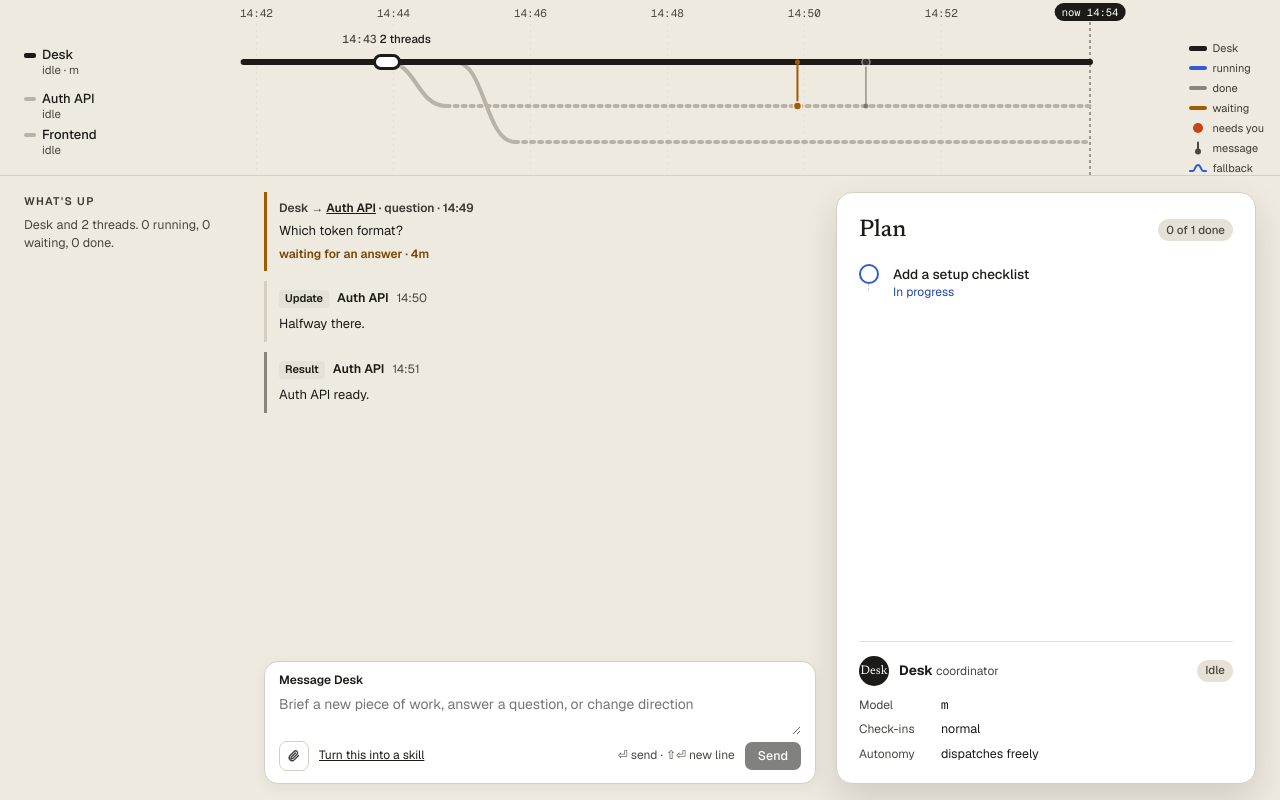
messages in the conversation › opens the pair sheet from the counterpart's name on Desk's message rows, and keeps a notice's link
Click the button "Auth API" next to "Desk →": [351, 209] box [326,200,376,217]
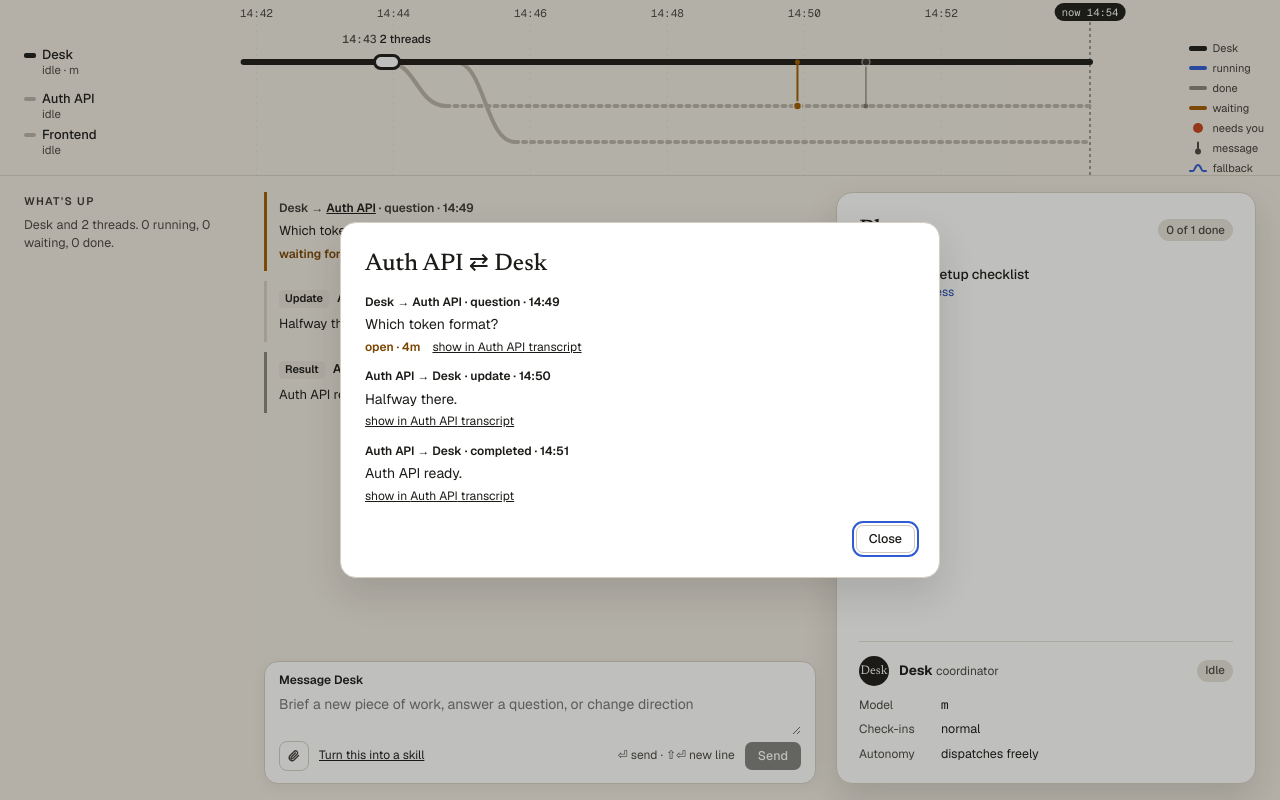
Click the button "Close": [885, 539] box [856,525,915,553]
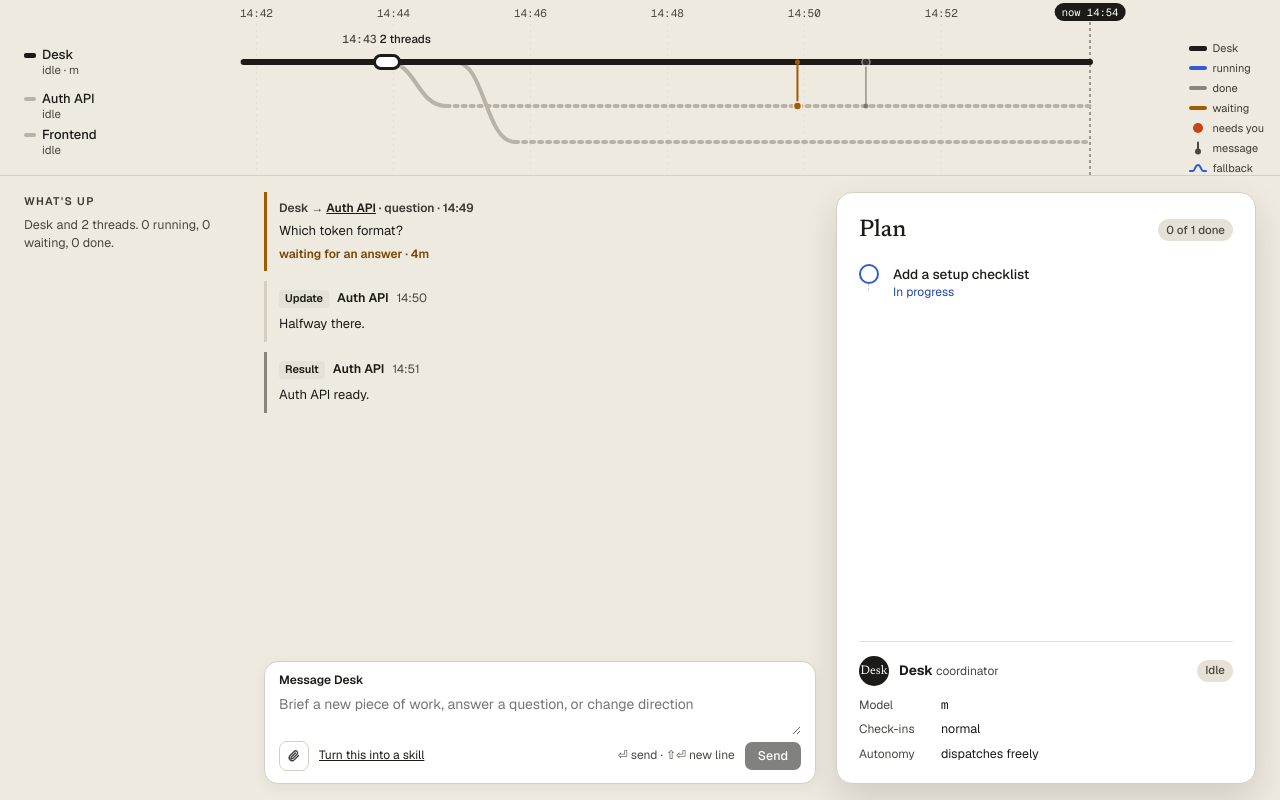
Now the dialog is gone
Click the button "Auth API" next to "Update": [363, 298] box [337,289,389,307]
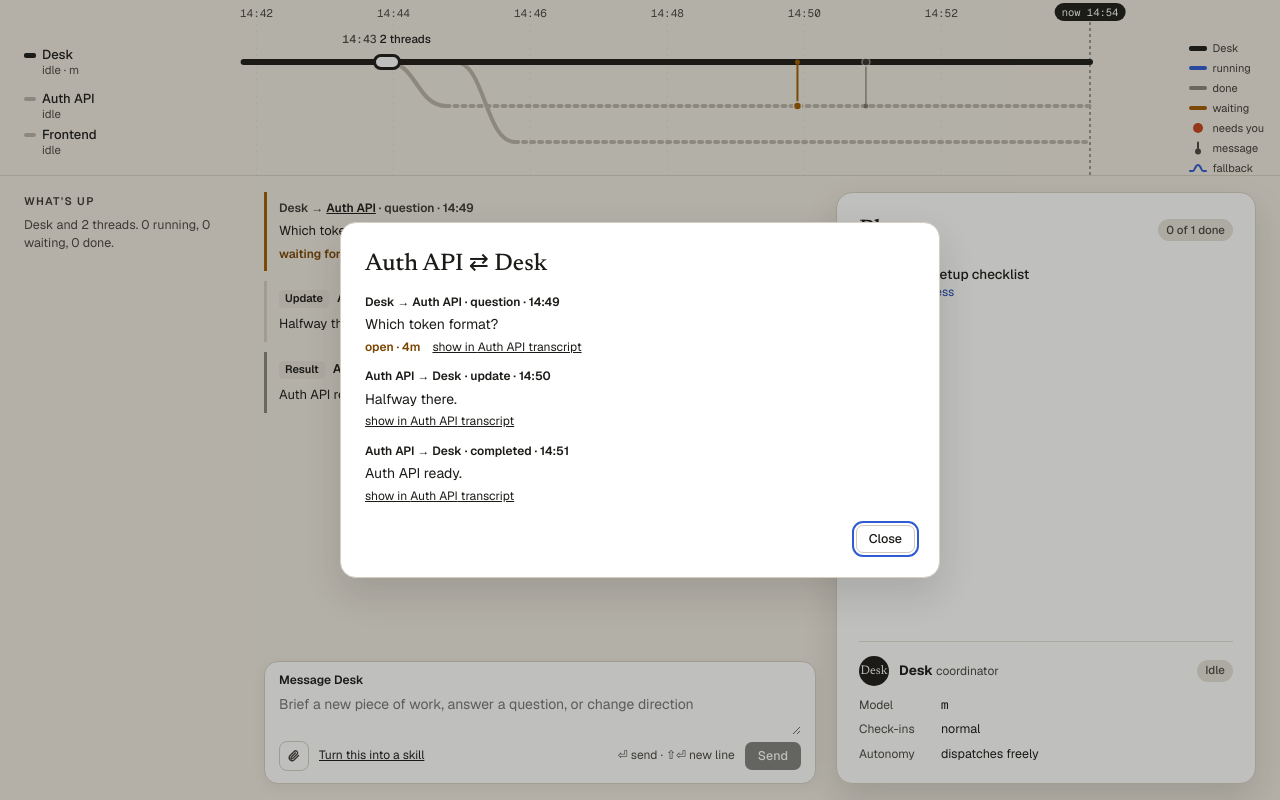
Now the dialog "Auth API ⇄ Desk" is shown, box [340,222,940,578]
